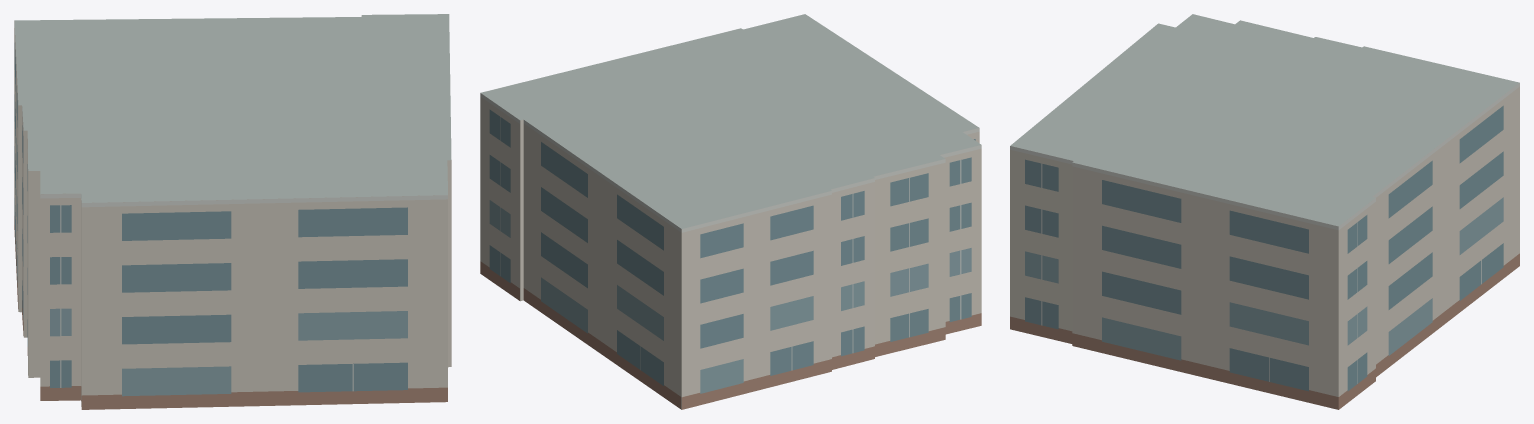
Rendered from survey-upis-32671726.glb.
The picture shows the model from 3 angles, left to right: view 1: azimuth 30°, elevation 25°; view 2: azimuth 150°, elevation 25°; view 3: azimuth 270°, elevation 25°; orthographic projection. The views are drawn at different scales.
Visible parts, largest first — view 1: survey-upis-32671726.tmp; view 2: survey-upis-32671726.tmp; view 3: survey-upis-32671726.tmp.
Part boxes in pixels (left/top/right/bottom): survey-upis-32671726.tmp: left=14, top=14, right=451, bottom=409; survey-upis-32671726.tmp: left=480, top=14, right=981, bottom=409; survey-upis-32671726.tmp: left=1010, top=14, right=1519, bottom=409.
Size of the model in its own units: 29.2 by 11.75 by 29.6.
